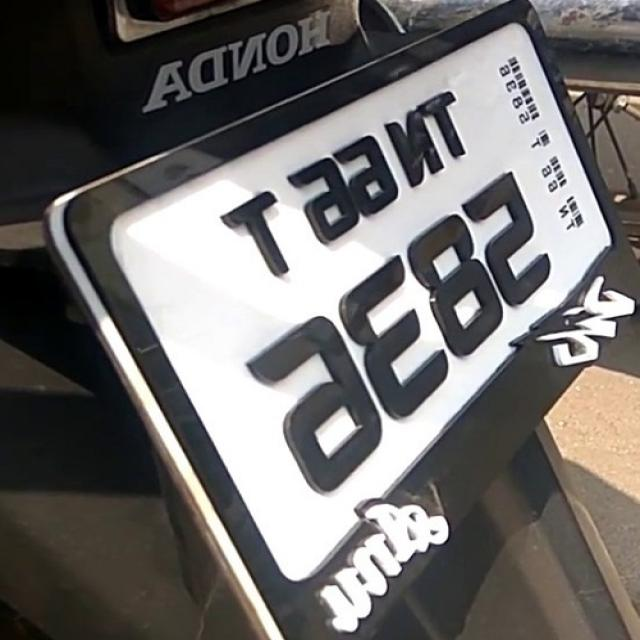number-plate: (52, 0, 640, 635)
